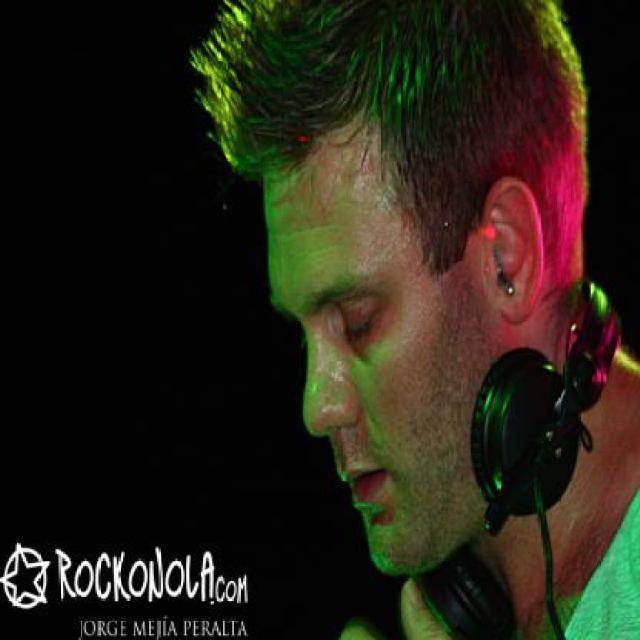earphone: (434, 265, 624, 628)
